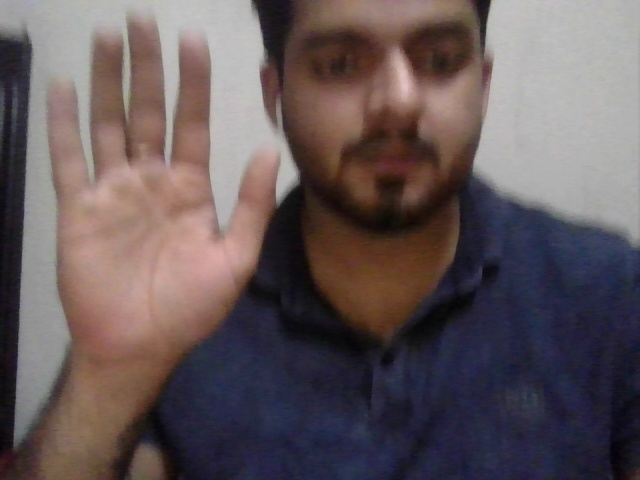hello: (46, 5, 282, 370)
